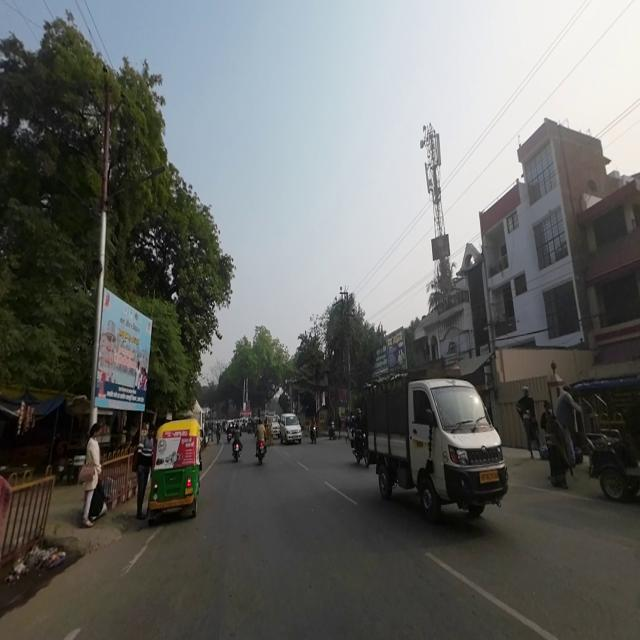Garbage: (16, 542, 63, 576)
